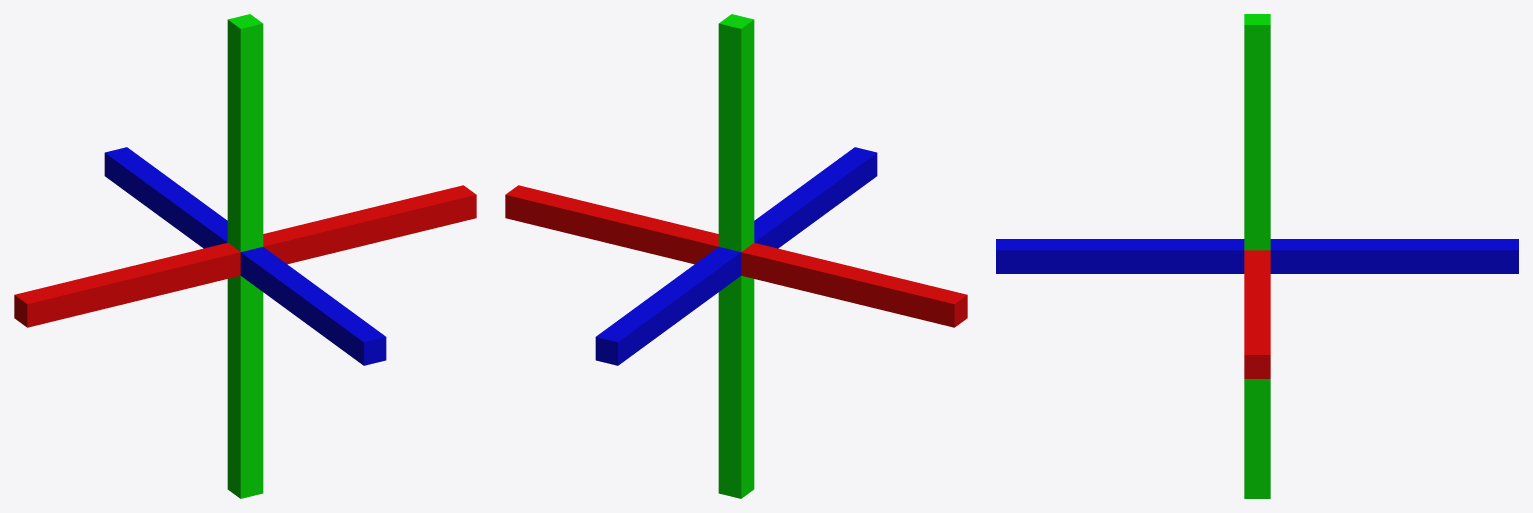
The model's file is Tri_Lines.fbx.
The picture shows the model from 3 angles, left to right: view 1: azimuth 30°, elevation 25°; view 2: azimuth 150°, elevation 25°; view 3: azimuth 270°, elevation 25°; orthographic projection.
Parts seen in each view (by area): view 1: pCube1165; view 2: pCube1165; view 3: pCube1165.
Boxes of the visible parts, x1=… form: pCube1165: x1=14, y1=14, x2=476, y2=498; pCube1165: x1=505, y1=14, x2=967, y2=498; pCube1165: x1=996, y1=14, x2=1518, y2=498.
Size of the model in its own units: 1 by 1 by 1.
